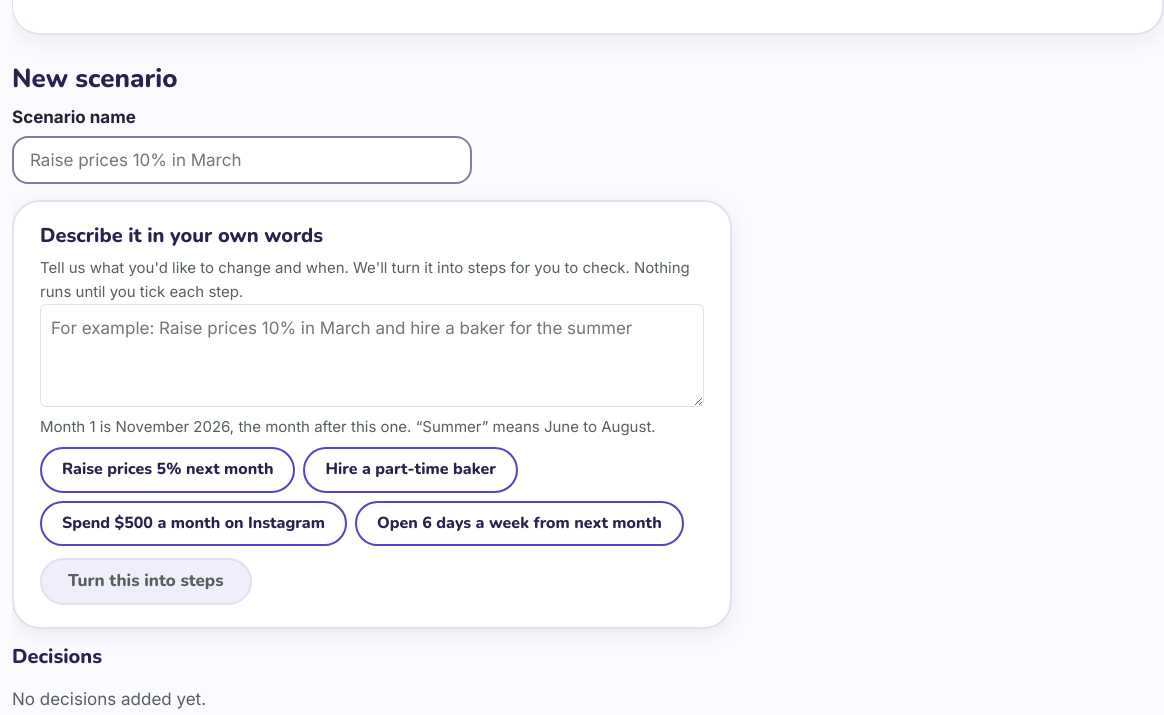
ScenarioBuilderPage: describe it in your own words › Confirm all › unticking one step afterwards brings the button back
(page scrolled)
Type "Raise prices 10% in March and hire a baker for the summer" into the text box named "What would you like to change?".
click(372, 355); type("Raise prices 10% in March and hire a baker for the summer")  # box [40,304,704,407]
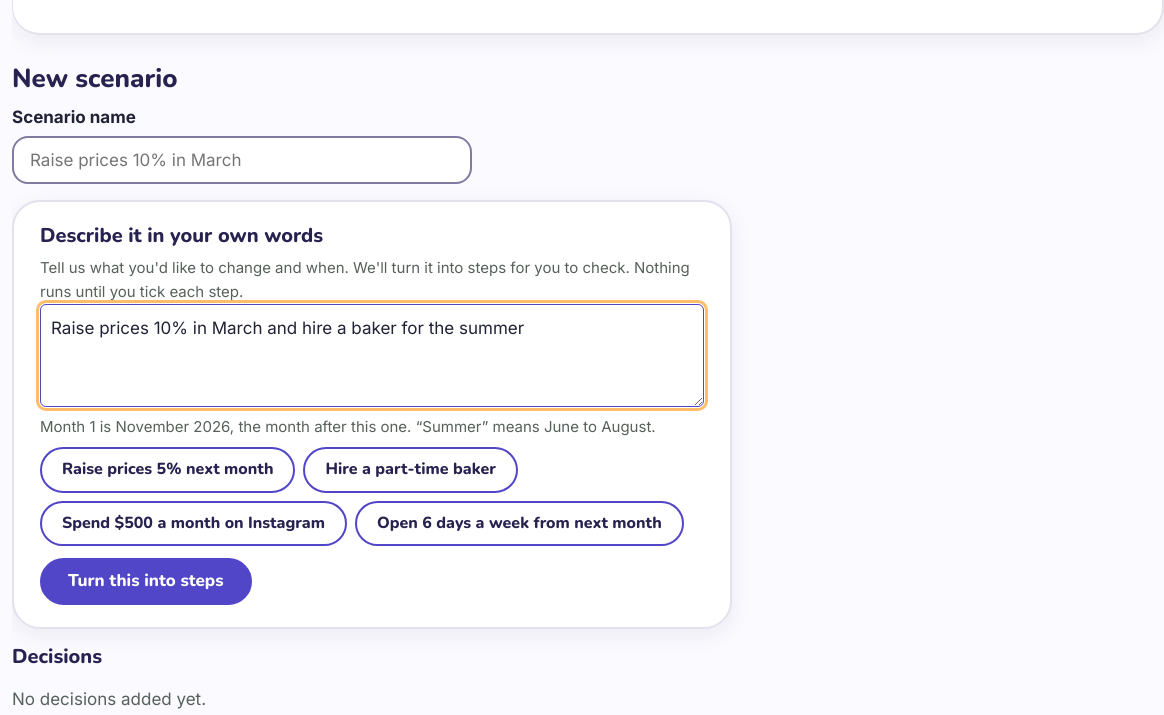
Click the button "Turn this into steps".
click(146, 582)  # box [40,558,252,605]
(page scrolled)
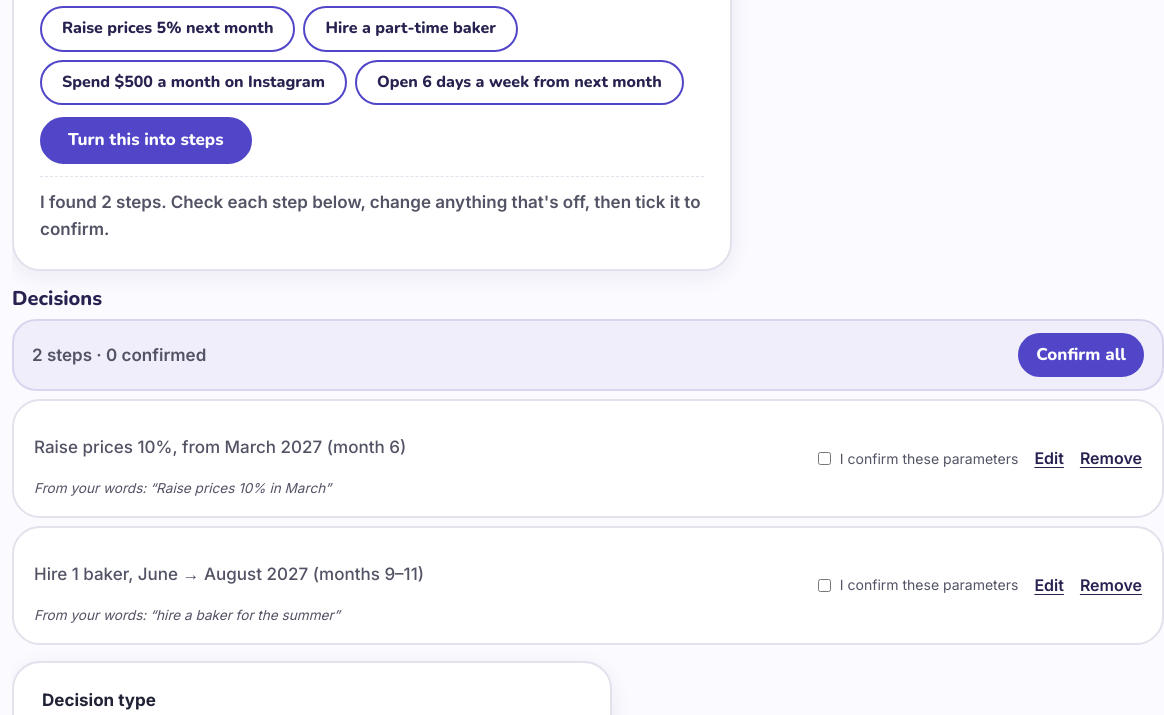
Expected: the text "I found 2 steps" is shown, [40,192,166,212]
Click the button "Confirm all".
click(1081, 355)  # box [1018,333,1144,377]
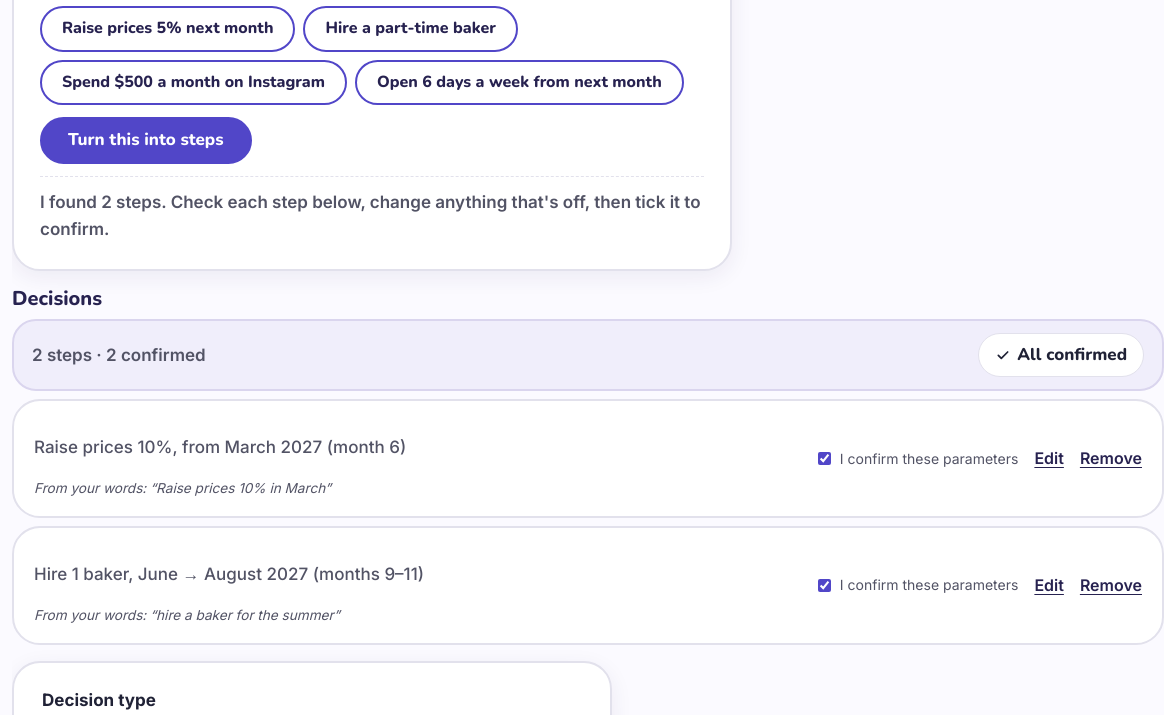
Click the 1st checkbox labelled "I confirm these parameters".
click(824, 459)  # box [818,452,831,465]
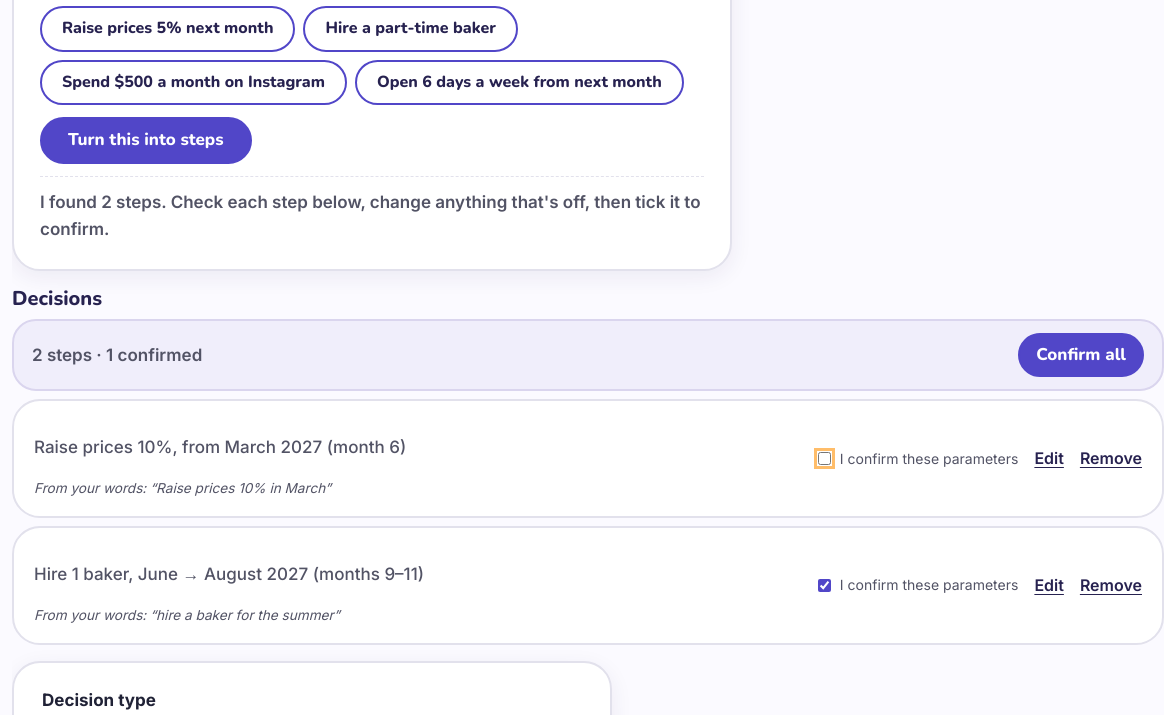
Expected: the text "2 steps · 1 confirmed" is shown, [32,342,202,369]
Expected: the button "Confirm all" is shown, [1018,333,1144,377]
